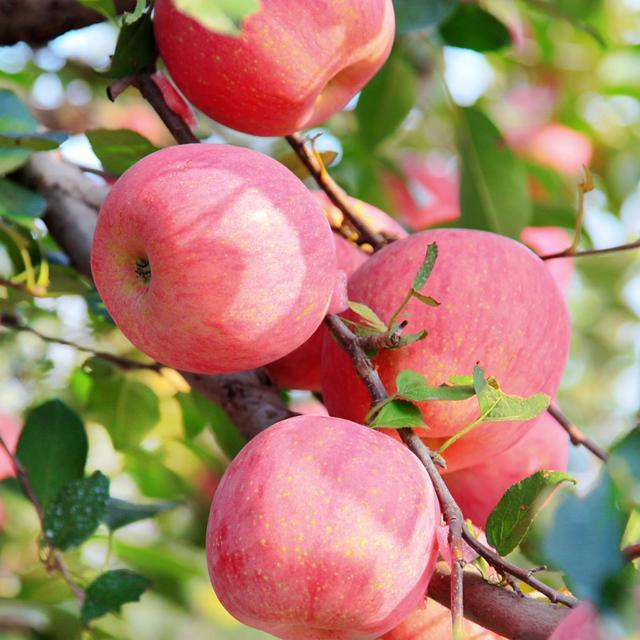apple: (88, 145, 333, 373), (203, 421, 451, 634), (345, 226, 577, 452), (161, 1, 392, 133)
